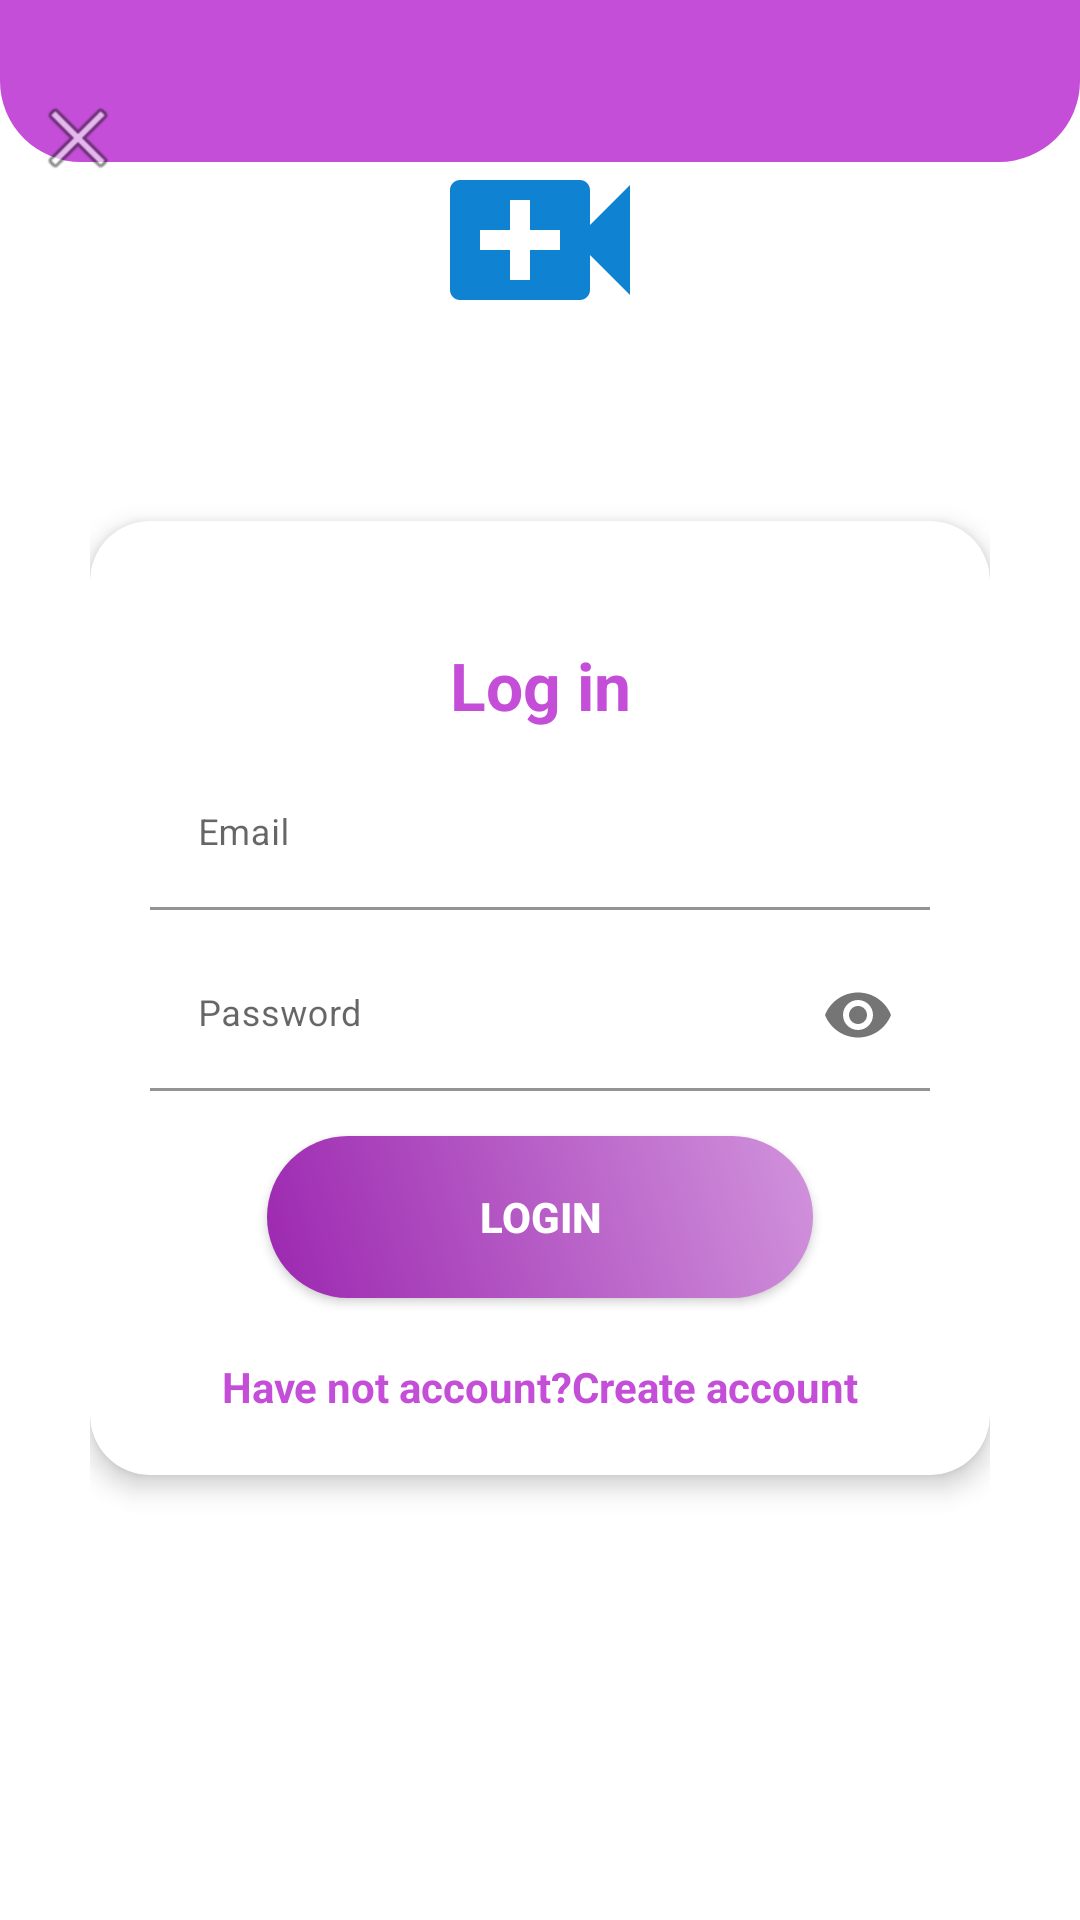

Icon click points for this 1080×1920 phone screenshot, format (x,y):
close clear cancel: (78,138)
video call: (540,240)
